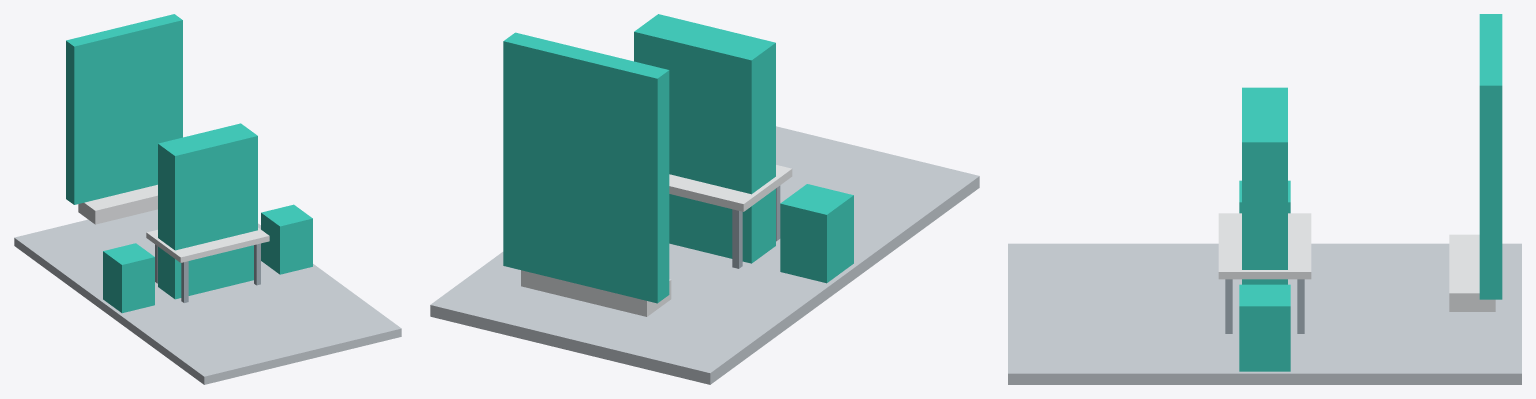
The picture shows the model from 3 angles, left to right: view 1: azimuth 30°, elevation 25°; view 2: azimuth 150°, elevation 25°; view 3: azimuth 270°, elevation 25°; orthographic projection. The views are drawn at different scales.
Visible parts, largest first — view 1: Exhibition Booth Concept; view 2: Exhibition Booth Concept; view 3: Exhibition Booth Concept.
Boxes of the visible parts, x1,y1,x2,y2 form: Exhibition Booth Concept: (14,14,401,384); Exhibition Booth Concept: (430,14,979,384); Exhibition Booth Concept: (1008,14,1521,384).
Bounding box in the file's own units: 3 × 2.9 × 5.
